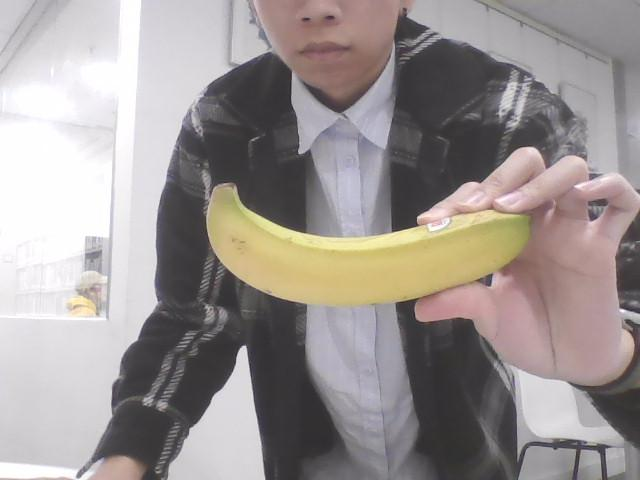banana: (204, 183, 532, 306)
